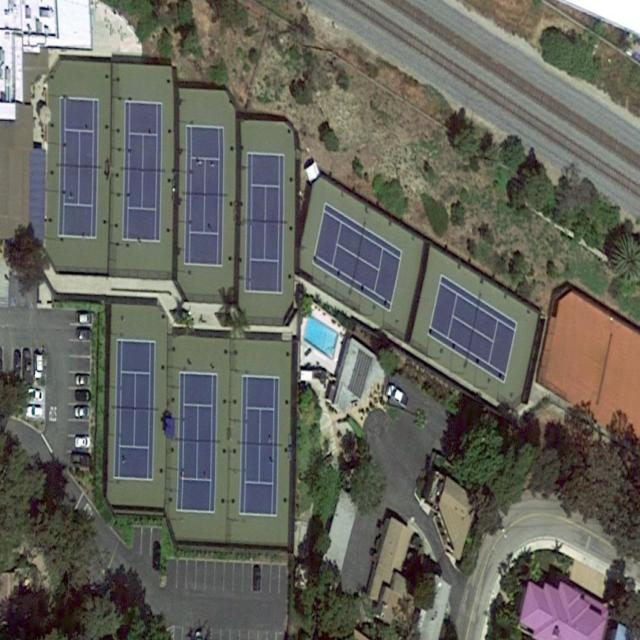small-vehicle: (384, 381, 411, 409), (23, 350, 33, 382), (152, 544, 163, 572), (27, 387, 45, 404), (14, 352, 23, 382), (76, 312, 94, 326), (34, 354, 44, 379), (75, 388, 91, 403), (252, 565, 261, 591), (26, 404, 41, 419), (75, 406, 90, 420), (75, 436, 90, 450), (76, 374, 91, 388), (76, 329, 92, 342)
